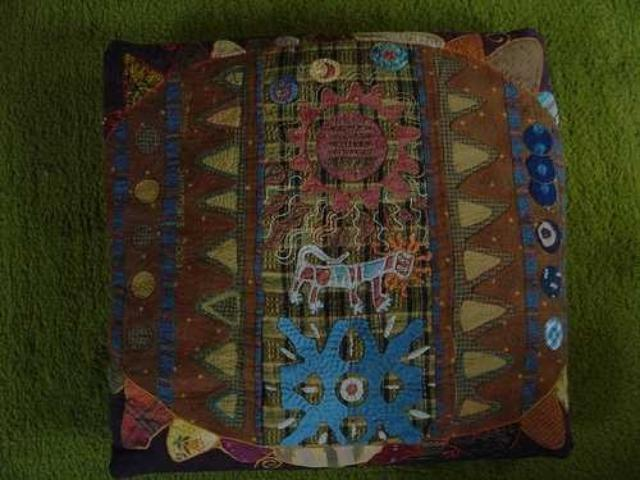pillow: (102, 29, 572, 474)
